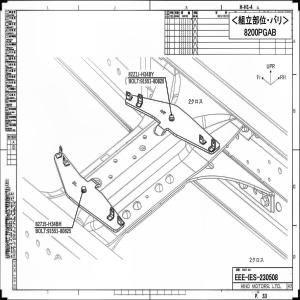PartNumber: (128, 70, 154, 77), (35, 220, 62, 226), (140, 78, 165, 84), (47, 228, 72, 234)
